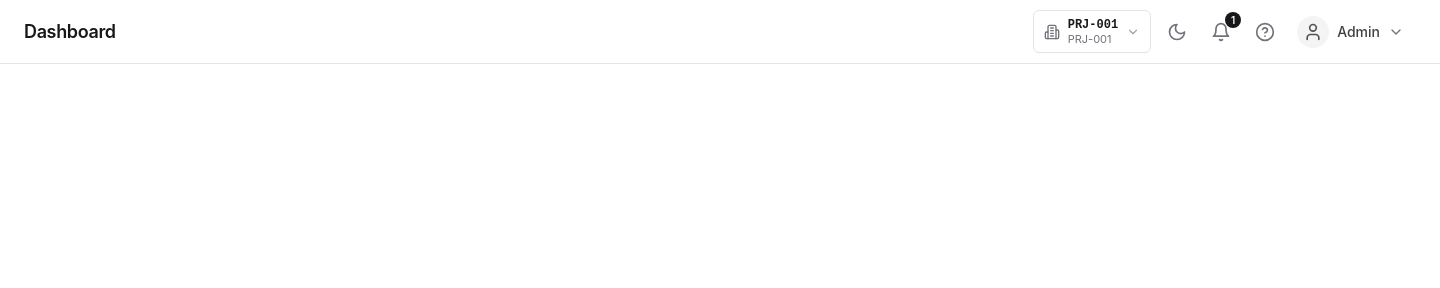
Test: notification bell › lists the latest items and opens their page
The width and height of the screenshot is (1440, 288).
Click the button with test id "notifications-bell": point(1221, 32) top-left (1203, 14), bottom-right (1239, 50)
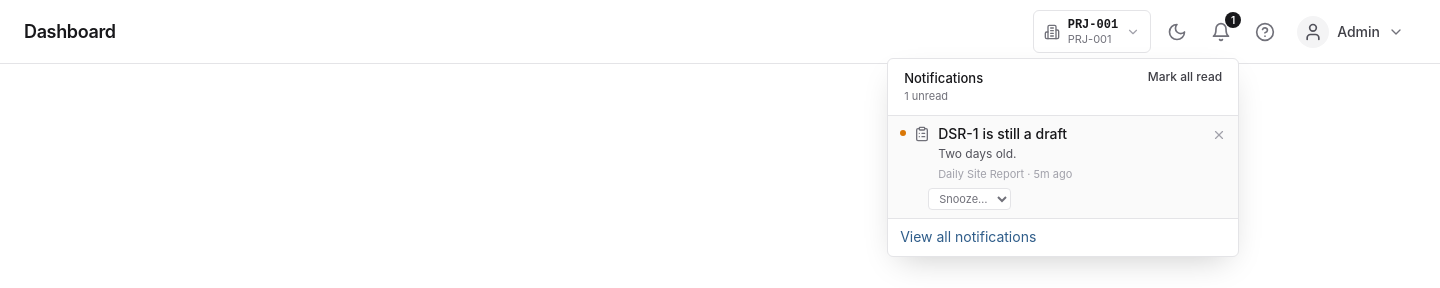
Click the text "DSR-1 is still a draft": point(1003, 133) top-left (938, 124), bottom-right (1067, 142)
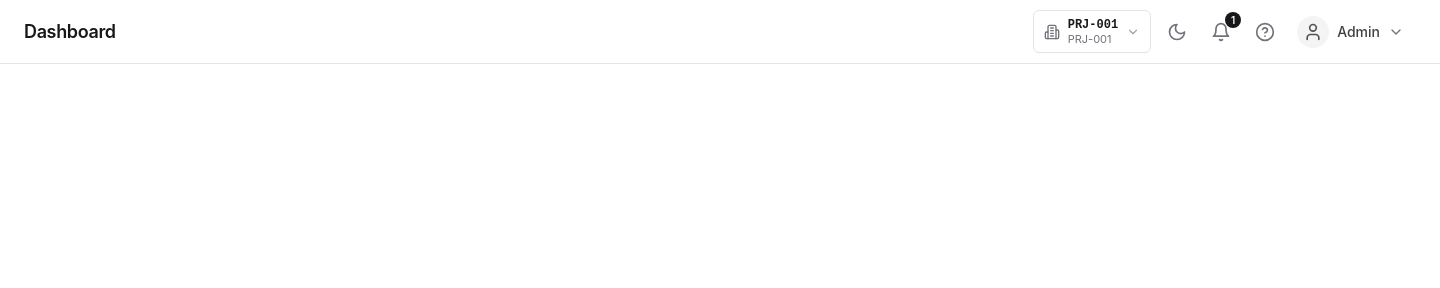
expect the element with test id "notifications-panel" is gone: met
